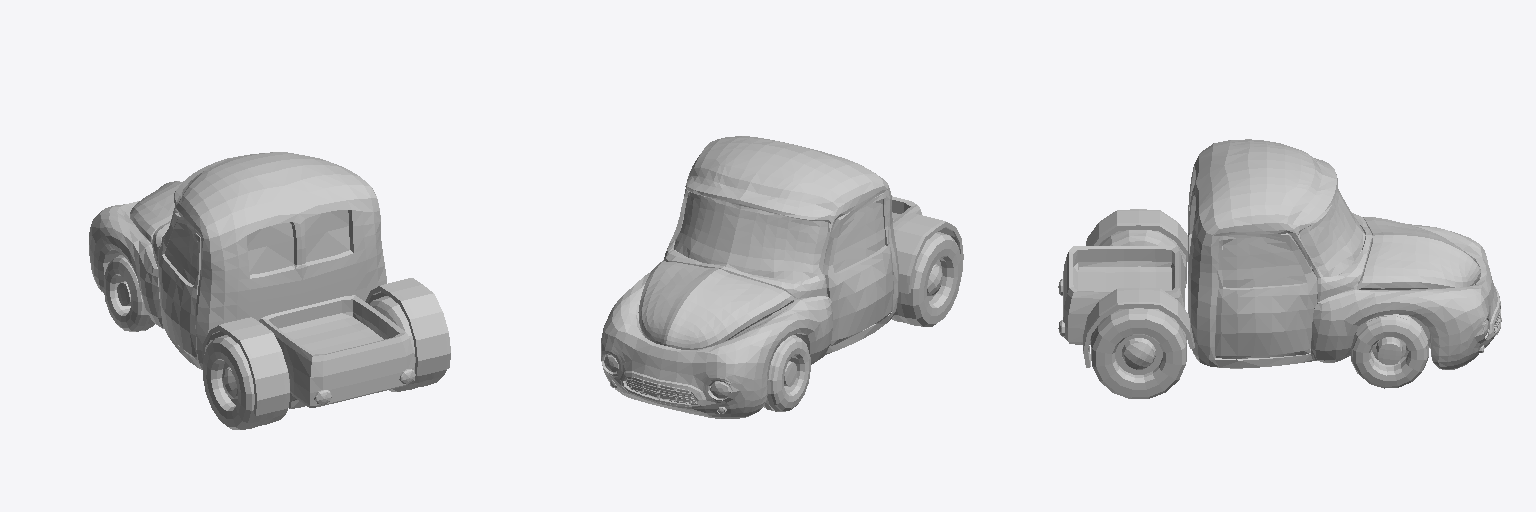
Rendered from a-volvo-duet-centered.obj.
3 renders of one model, left to right at view 1: azimuth 30°, elevation 25°; view 2: azimuth 150°, elevation 25°; view 3: azimuth 270°, elevation 25°, orthographic.
Parts seen in each view (by area): view 1: Car_Body_Plane.009, Mud_Guard_Circle.002, Circle_Circle.006, Back_Glass_Plane.012, Door_R_Plane.007, Front_tire_R_Circle.005, Glass_R_Plane.002, Circle.001_Circle; view 2: Car_Body_Plane.009, Wind_sheild_Plane.003, Door_R_Plane.007, Circle_Circle.006, Front_tire_R_Circle.005, Glass_R_Plane.002, Mud_Guard_Circle.002, Filter_engine_Plane.019; view 3: Car_Body_Plane.009, Doors_L_Plane.014, Circle.001_Circle, Mud_Guard_Circle.002, Front_tire_L_Circle.001, Glass_L_Plane.011, Wind_sheild_Plane.003, Circle_Circle.006.
Part boxes in pixels (x1,y1,x2,y2): Car_Body_Plane.009: (89, 152, 414, 408); Mud_Guard_Circle.002: (202, 278, 450, 415); Circle_Circle.006: (203, 335, 289, 429); Back_Glass_Plane.012: (247, 210, 349, 274); Door_R_Plane.007: (157, 213, 200, 359); Front_tire_R_Circle.005: (104, 255, 154, 331); Glass_R_Plane.002: (165, 220, 197, 284); Circle.001_Circle: (369, 296, 446, 391); Car_Body_Plane.009: (601, 136, 921, 418); Wind_sheild_Plane.003: (674, 192, 827, 280); Door_R_Plane.007: (824, 193, 893, 345); Circle_Circle.006: (892, 232, 961, 326); Front_tire_R_Circle.005: (764, 335, 810, 411); Glass_R_Plane.002: (833, 199, 884, 272); Mud_Guard_Circle.002: (893, 214, 963, 293); Filter_engine_Plane.019: (626, 377, 697, 403); Car_Body_Plane.009: (1063, 139, 1501, 369); Doors_L_Plane.014: (1215, 233, 1317, 359); Circle.001_Circle: (1091, 308, 1186, 398); Mud_Guard_Circle.002: (1083, 209, 1194, 367); Front_tire_L_Circle.001: (1350, 314, 1428, 388); Glass_L_Plane.011: (1222, 237, 1306, 287); Wind_sheild_Plane.003: (1300, 188, 1365, 276); Circle_Circle.006: (1099, 230, 1186, 287).
Bounding box in the file's own units: 2.63 × 2.37 × 4.92.